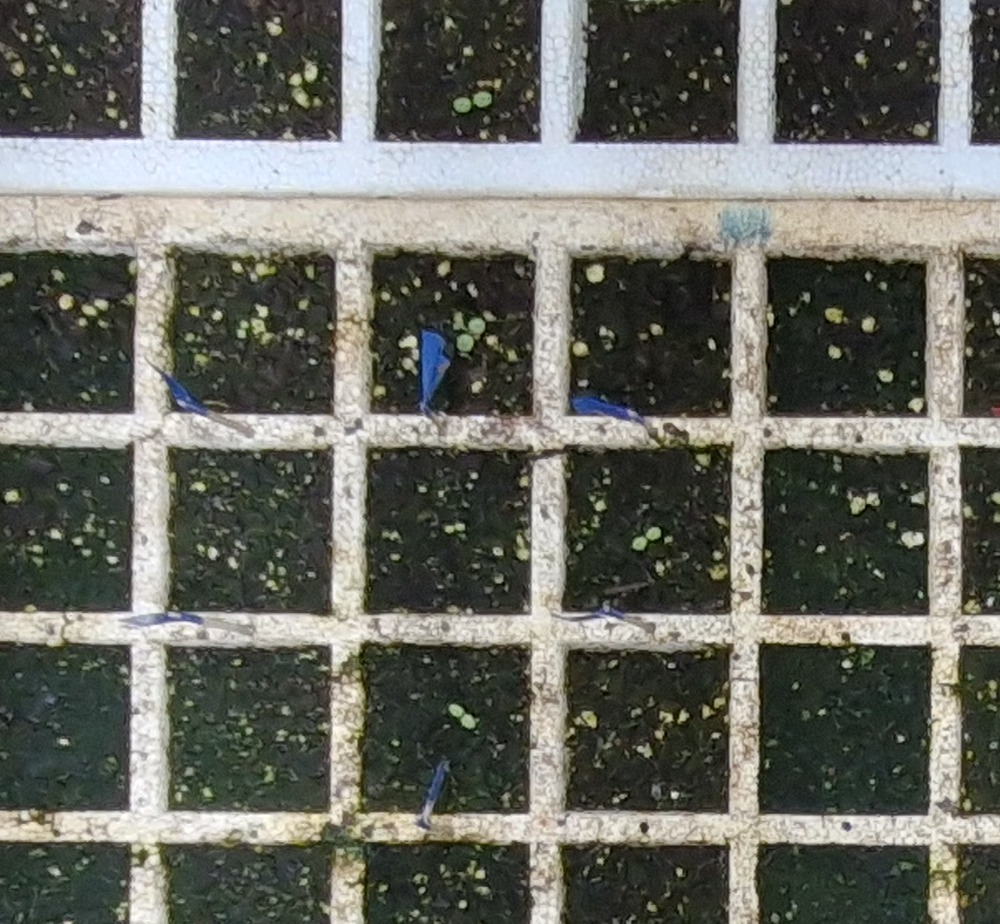Folha: (454, 312, 467, 331), (469, 318, 485, 333), (457, 334, 472, 349), (461, 714, 475, 730), (646, 527, 661, 540), (632, 537, 647, 550), (449, 704, 464, 717)
Germinacao: (454, 311, 486, 352), (449, 704, 477, 729), (632, 527, 662, 550)
